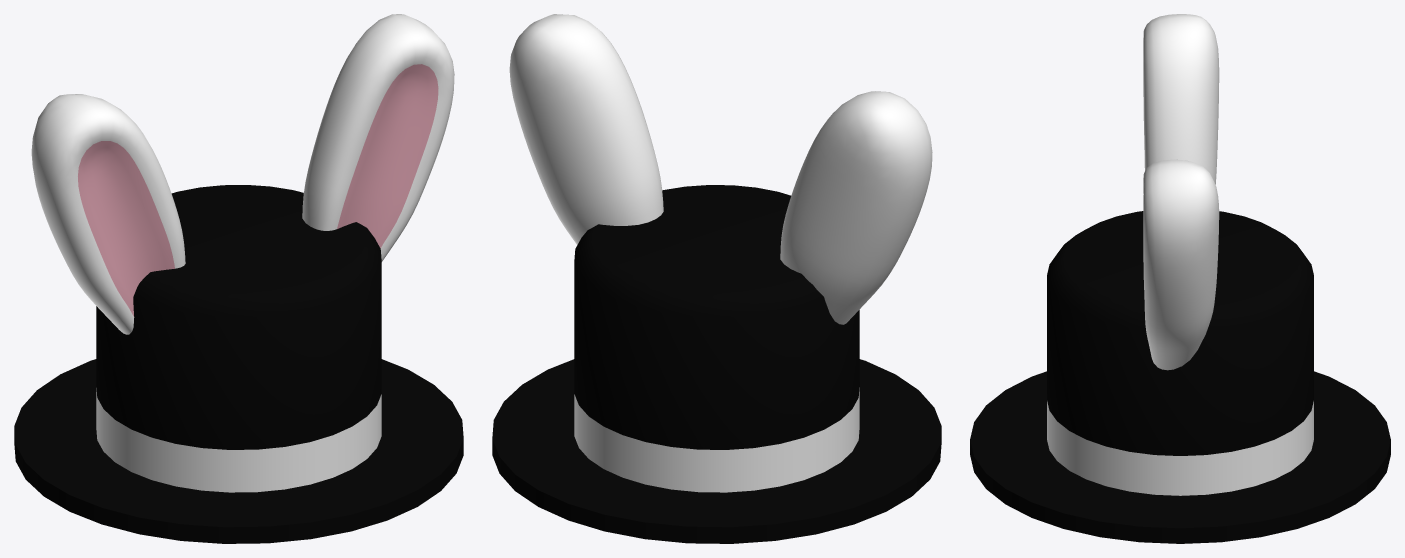
File: Top Hat.fbx
3 renders of one model, left to right at view 1: azimuth 30°, elevation 25°; view 2: azimuth 150°, elevation 25°; view 3: azimuth 270°, elevation 25°, orthographic. The views are drawn at different scales.
Parts seen in each view (by area): view 1: Top Hat, Ears; view 2: Top Hat, Ears; view 3: Top Hat, Ears.
Part boxes in pixels (bbox=[...]): Top Hat: bbox=[14, 185, 463, 543]; Ears: bbox=[31, 14, 454, 334]; Top Hat: bbox=[492, 185, 941, 543]; Ears: bbox=[509, 14, 932, 324]; Top Hat: bbox=[970, 211, 1390, 543]; Ears: bbox=[1143, 14, 1219, 370].
Size of the model in its own units: 14.4 by 13.13 by 13.76.
